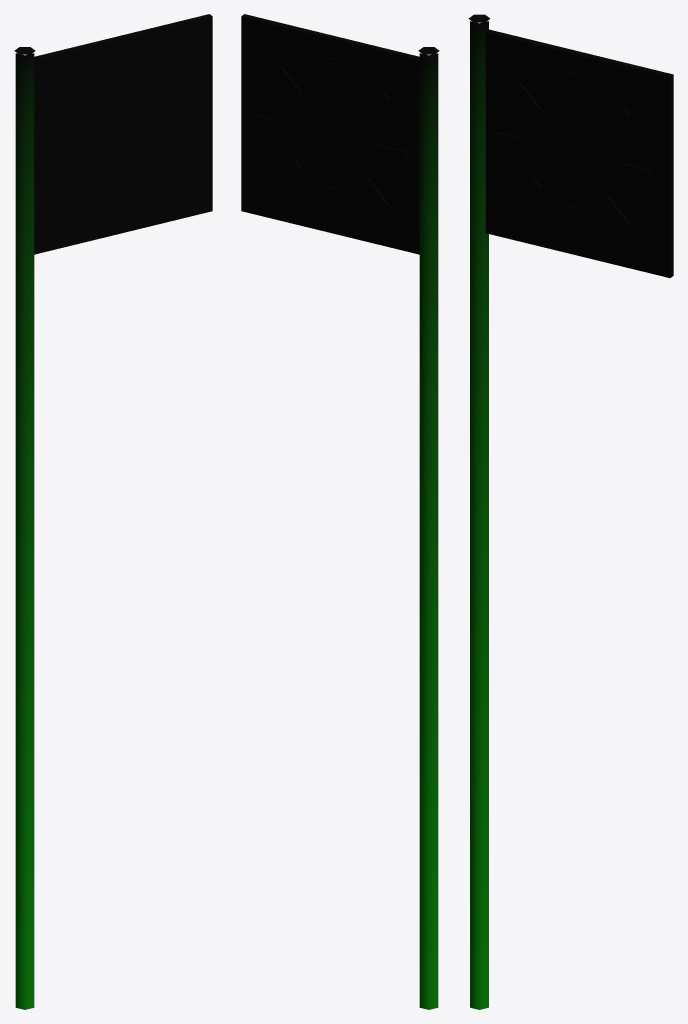
The model's file is d_flag.glb.
3 renders of one model, left to right at view 1: azimuth 30°, elevation 25°; view 2: azimuth 150°, elevation 25°; view 3: azimuth 330°, elevation 25°, orthographic. The views are drawn at different scales.
Parts seen in each view (by area): view 1: lod0; view 2: lod0; view 3: lod0.
Part boxes in pixels (x1,y1,x2,y2): lod0: [14, 14, 212, 1009]; lod0: [241, 14, 439, 1009]; lod0: [468, 14, 673, 1009].
Size of what is drawn, in the model's own units: 2.1 by 9.8 by 0.2.
